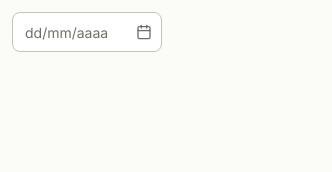
Test case: DateInput › insere as barras progressivamente e ignora caracteres não numéricos
Type "15" into the field named "Data de início". click: coordinates (87, 32)
box: top-left (12, 12), bottom-right (162, 52)
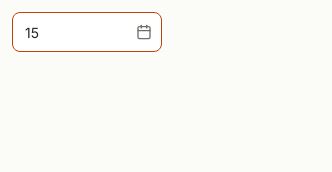
Replace the text in the field named "Data de início" with "15a06b". click: coordinates (87, 32)
box: top-left (12, 12), bottom-right (162, 52)
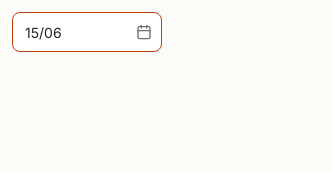
Now the field named "Data de início" holds "15/06", box top-left (12, 12), bottom-right (162, 52)
